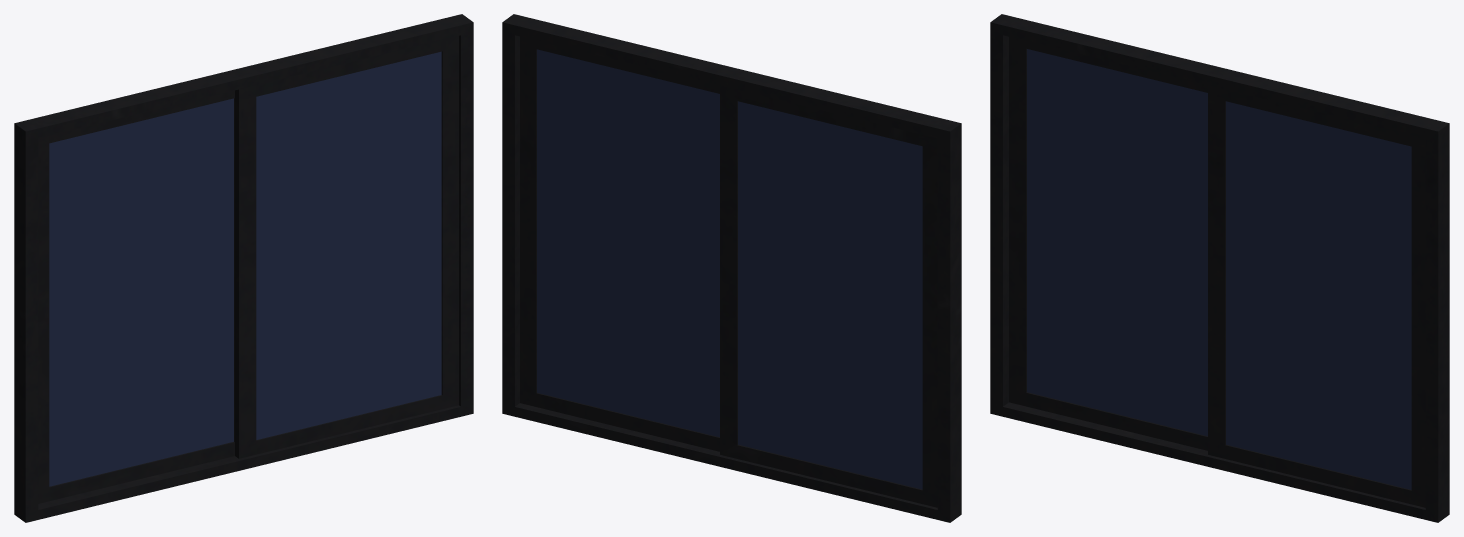
The model's file is sb_obj_ModernCity026_window_a1.fbx.
3 renders of one model, left to right at view 1: azimuth 30°, elevation 25°; view 2: azimuth 150°, elevation 25°; view 3: azimuth 330°, elevation 25°, orthographic.
Parts seen in each view (by area): view 1: sb_obj_ModernCity026_window_a1; view 2: sb_obj_ModernCity026_window_a1; view 3: sb_obj_ModernCity026_window_a1.
Boxes of the visible parts, box(x1,y1,x2,y2) form: sb_obj_ModernCity026_window_a1: box(14, 14, 473, 522); sb_obj_ModernCity026_window_a1: box(502, 14, 961, 522); sb_obj_ModernCity026_window_a1: box(990, 14, 1449, 522).
Size of the model in its own units: 2 by 1.67 by 0.088.
